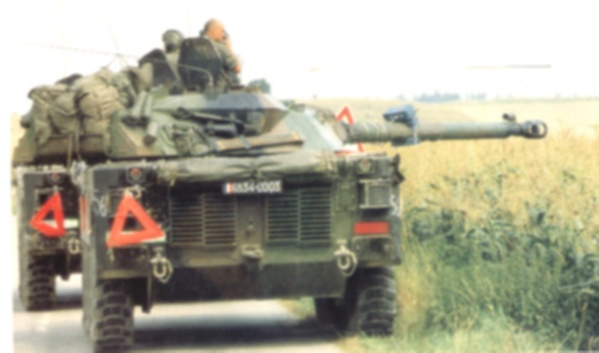license_plate: (224, 180, 283, 194)
